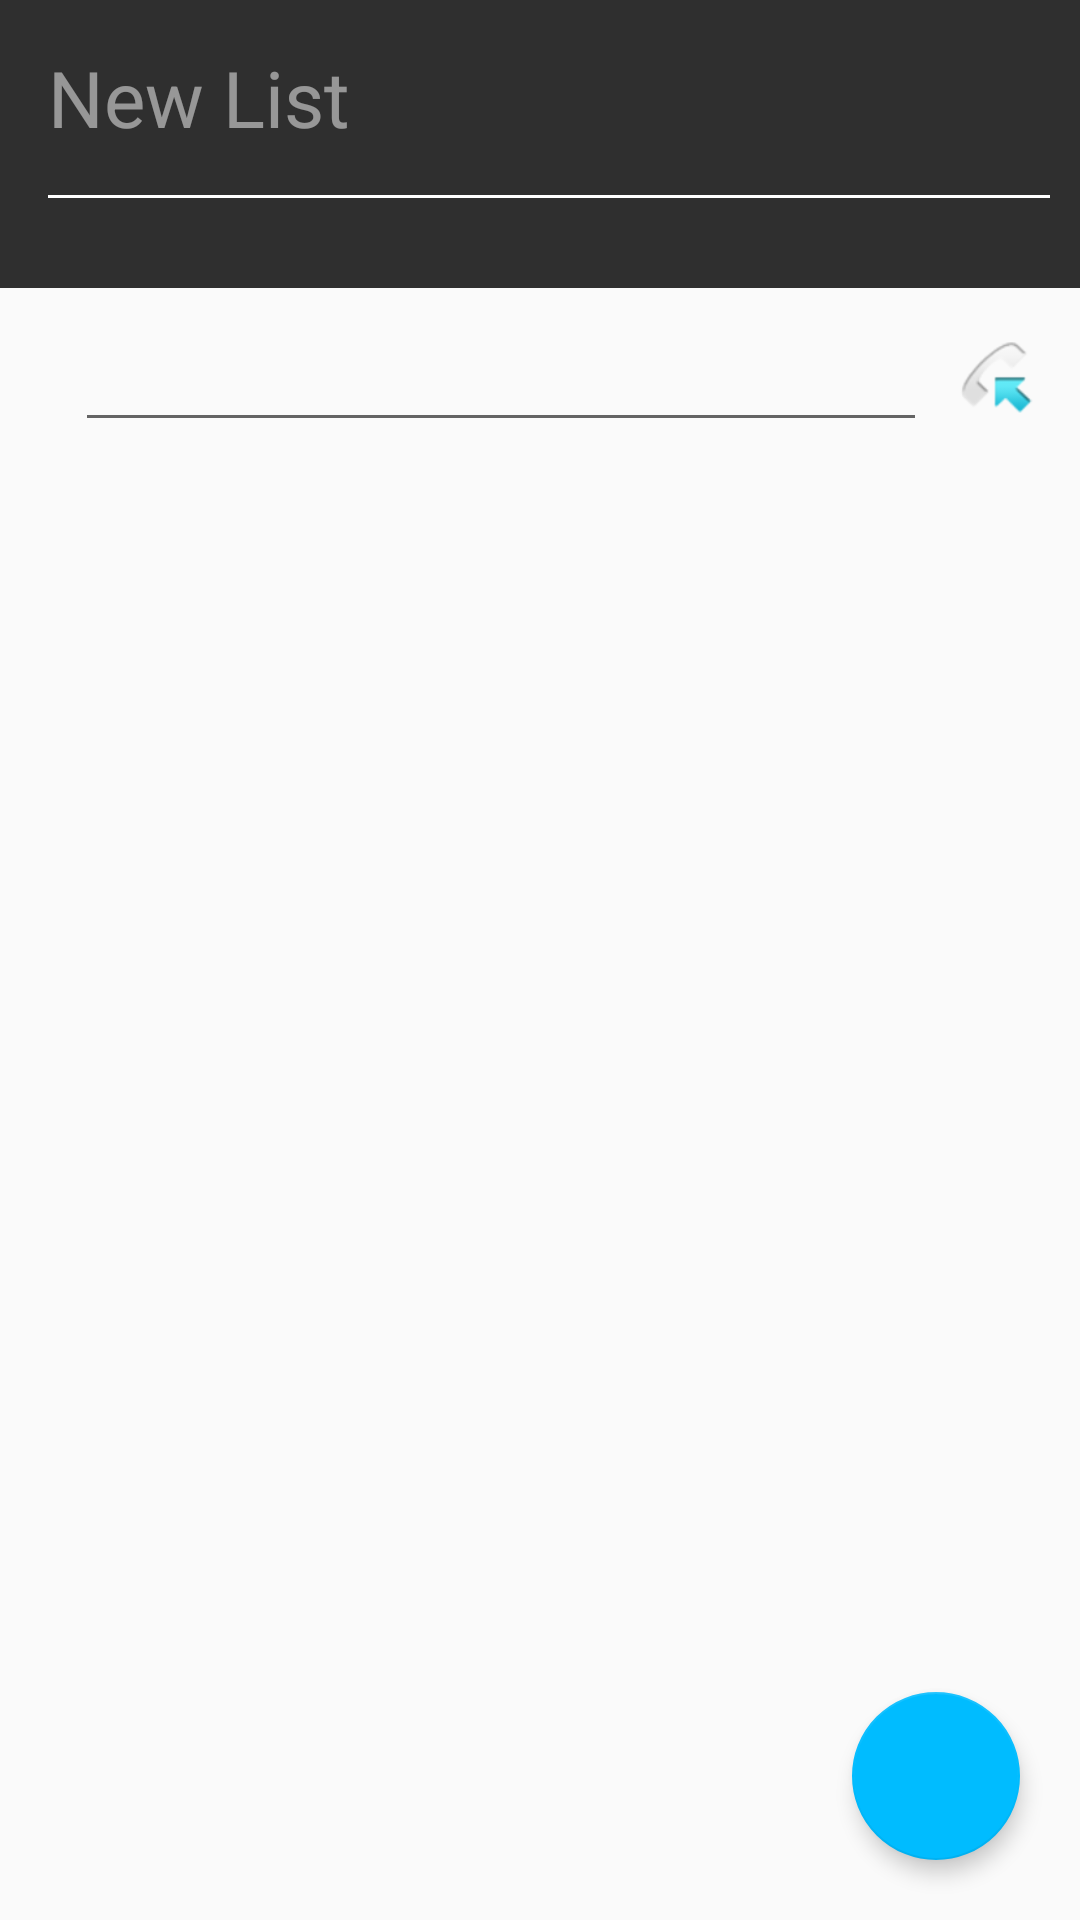

Point at icon controls on the screen. Image size 1080px×1920px, points as (x=x, y=y).
sym call incoming: (x=997, y=377)
